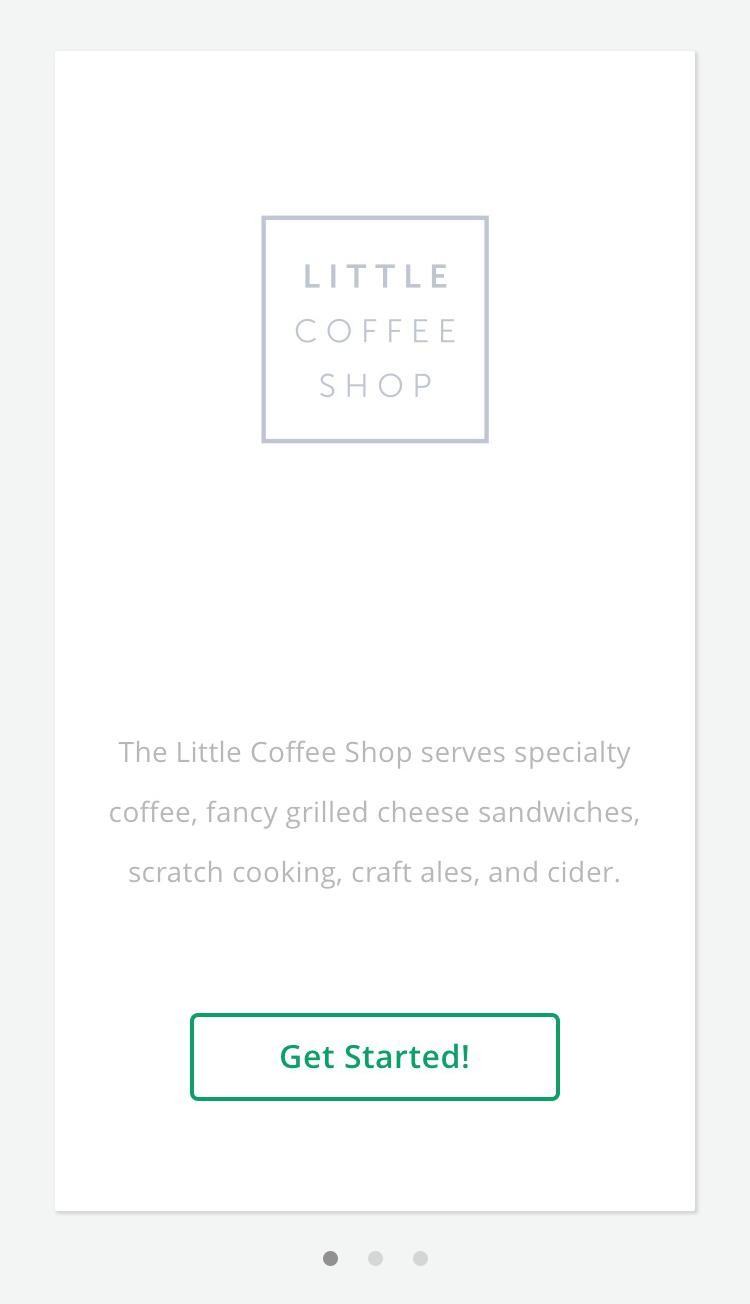Image: (261, 215, 490, 445)
PageIndicator: (322, 1249, 430, 1268)
Text: (110, 739, 640, 891)
TextButton: (190, 1013, 561, 1102)
